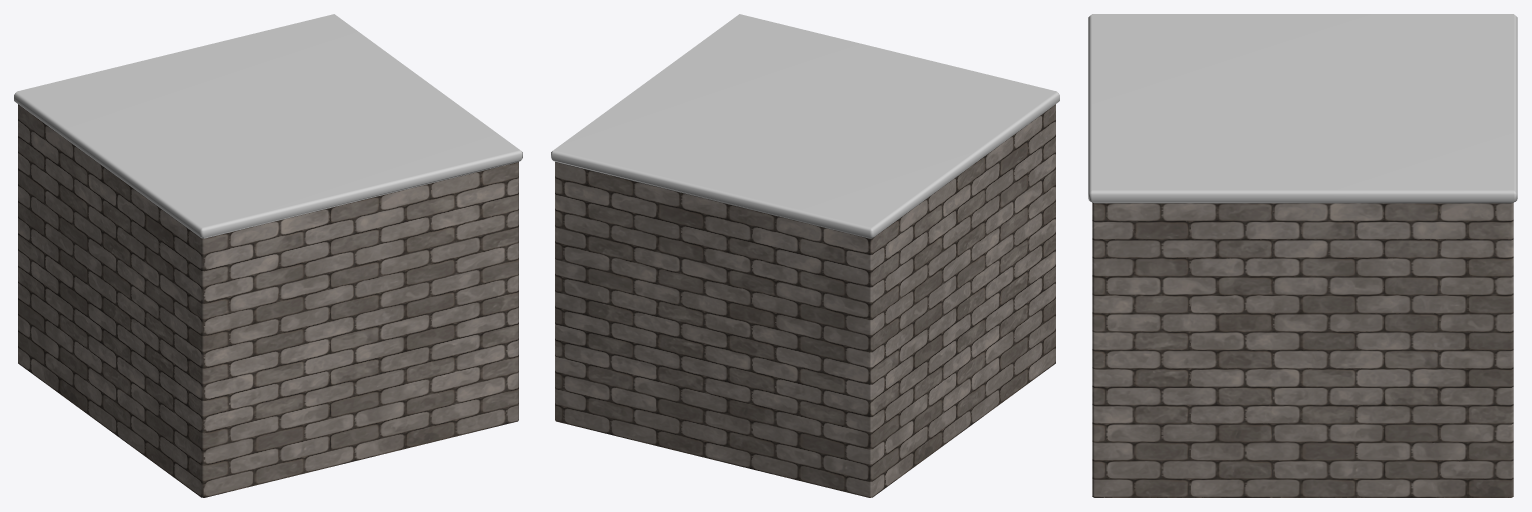
Rendered from StonePlatform.fbx.
The picture shows the model from 3 angles, left to right: view 1: azimuth 30°, elevation 25°; view 2: azimuth 150°, elevation 25°; view 3: azimuth 270°, elevation 25°; orthographic projection. The views are drawn at different scales.
Parts seen in each view (by area): view 1: Mesh; view 2: Mesh; view 3: Mesh.
Part boxes in pixels (x1,y1,x2,y2): Mesh: (14, 14, 522, 497); Mesh: (551, 14, 1059, 497); Mesh: (1088, 14, 1517, 497).
Size of the model in its own units: 331 by 266 by 335.
